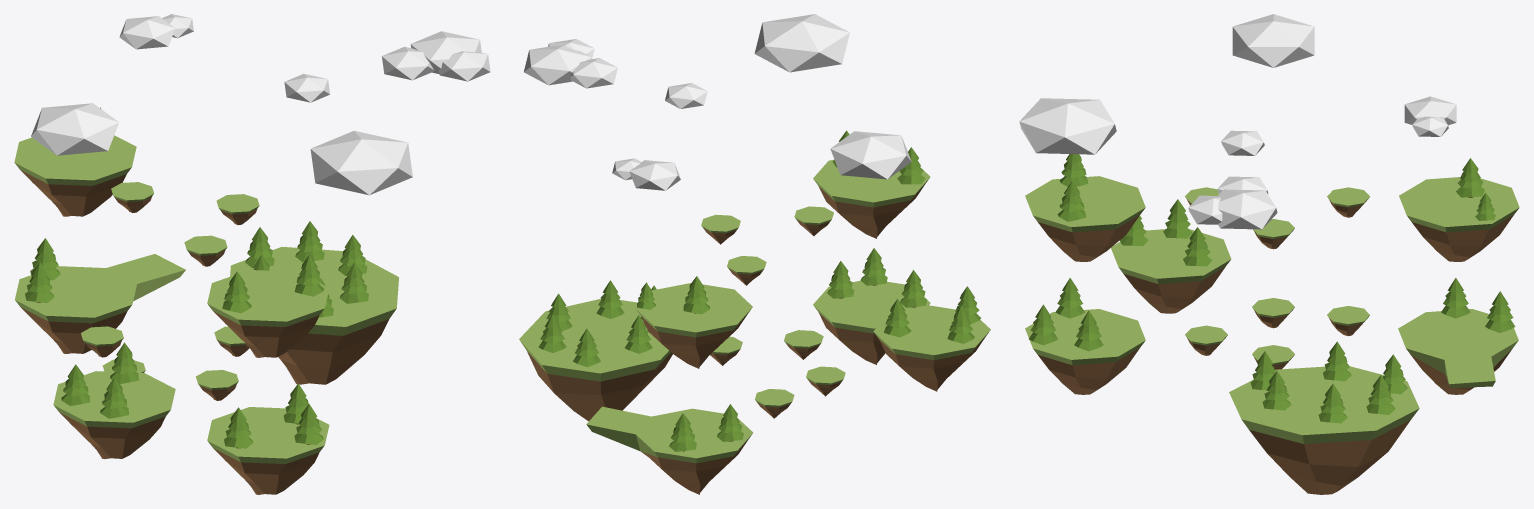
Rendered from floatingislands.obj.
3 renders of one model, left to right at view 1: azimuth 30°, elevation 25°; view 2: azimuth 150°, elevation 25°; view 3: azimuth 270°, elevation 25°, orthographic. The views are drawn at different scales.
Size of the model in its own units: 159 by 121 by 156.
